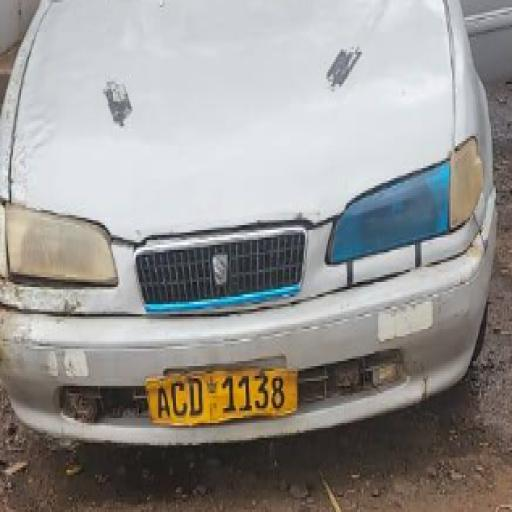number-plates: (142, 368, 289, 416)
